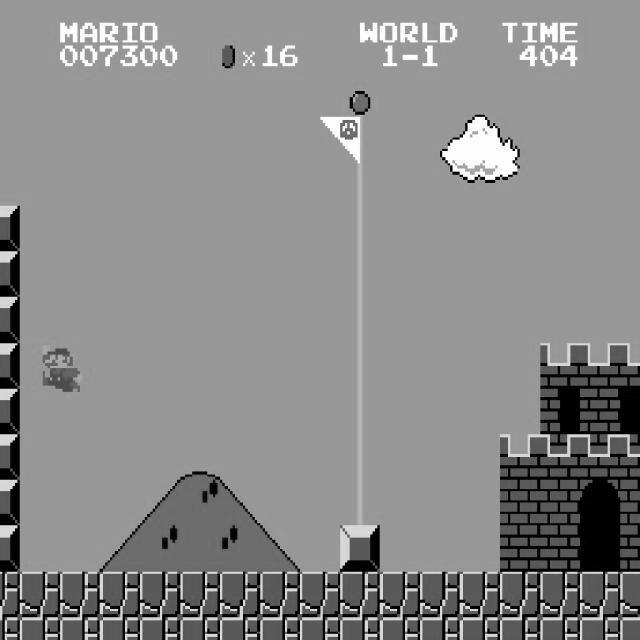1- brick_block: (620, 526, 640, 572)
11- little_mario: (40, 343, 83, 391)
17- undestructible_block: (20, 572, 60, 618), (60, 572, 100, 618), (100, 572, 140, 618), (140, 572, 180, 618), (180, 572, 220, 618), (220, 572, 260, 618), (260, 572, 300, 618), (300, 572, 340, 618), (340, 572, 380, 618), (380, 572, 420, 618), (420, 572, 460, 618), (460, 572, 500, 618), (500, 572, 540, 618), (540, 572, 580, 618), (580, 572, 620, 618), (0, 572, 20, 618), (620, 572, 640, 618), (20, 617, 60, 640), (60, 617, 100, 640), (100, 617, 140, 640), (140, 617, 180, 640), (180, 617, 220, 640), (220, 617, 260, 640), (260, 617, 300, 640), (300, 617, 340, 640), (340, 617, 380, 640), (380, 617, 420, 640), (420, 617, 460, 640), (460, 617, 500, 640), (500, 617, 540, 640), (540, 617, 580, 640), (580, 617, 620, 640), (0, 617, 20, 640), (620, 617, 640, 640)
7- goal_pole: (340, 68, 380, 114), (340, 114, 380, 160), (340, 160, 380, 206), (340, 252, 380, 298), (340, 297, 380, 343), (340, 388, 380, 434), (340, 434, 380, 480), (340, 480, 380, 526), (340, 206, 380, 251), (340, 343, 380, 388)
9- hard_block: (340, 526, 380, 572), (0, 252, 20, 298), (0, 297, 20, 343), (0, 388, 20, 434), (0, 434, 20, 480), (0, 480, 20, 526), (0, 526, 20, 572), (0, 206, 20, 251), (0, 343, 20, 388)
